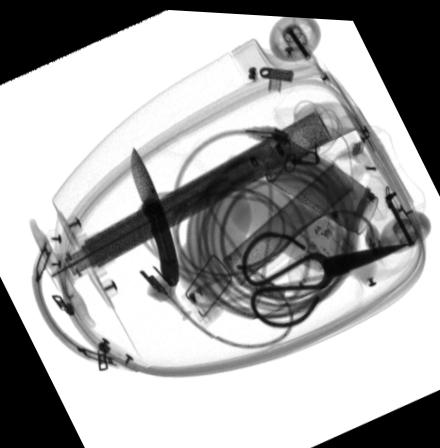Knife: (131, 145, 179, 283)
Scissors: (241, 226, 411, 328)
